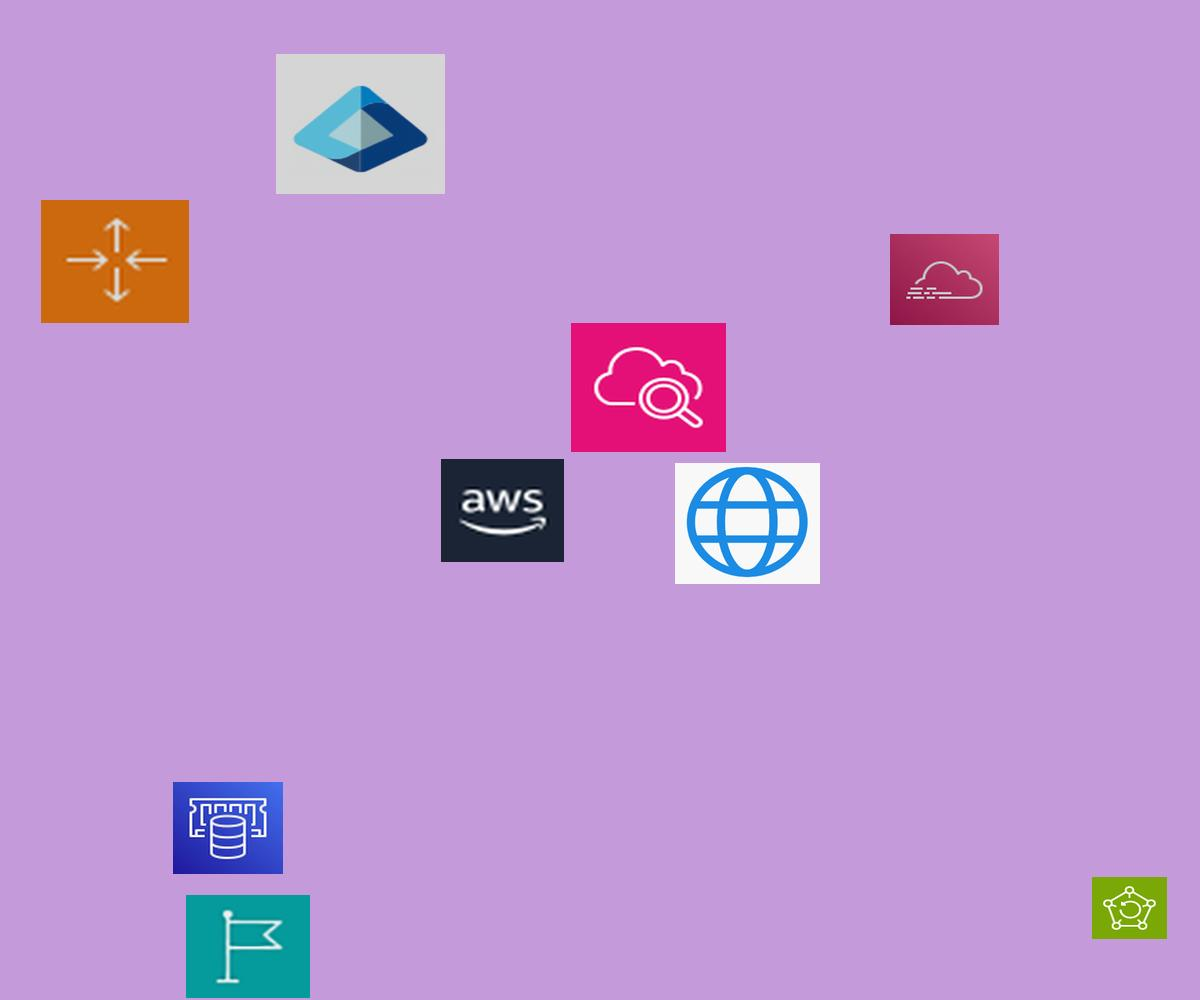AWS-Backup: (1092, 877, 1167, 939)
AWS-Cloud-logo: (441, 459, 564, 562)
AWS-CloudTrail: (890, 234, 999, 325)
AWS-CloudWatch: (571, 323, 726, 452)
AWS-ElastiCache: (173, 782, 283, 874)
AWS-Region: (186, 895, 310, 998)
AWS-Scaling-group: (41, 200, 189, 323)
Azure_http: (675, 463, 820, 584)
Azure_microsoft_entra: (276, 54, 445, 194)
